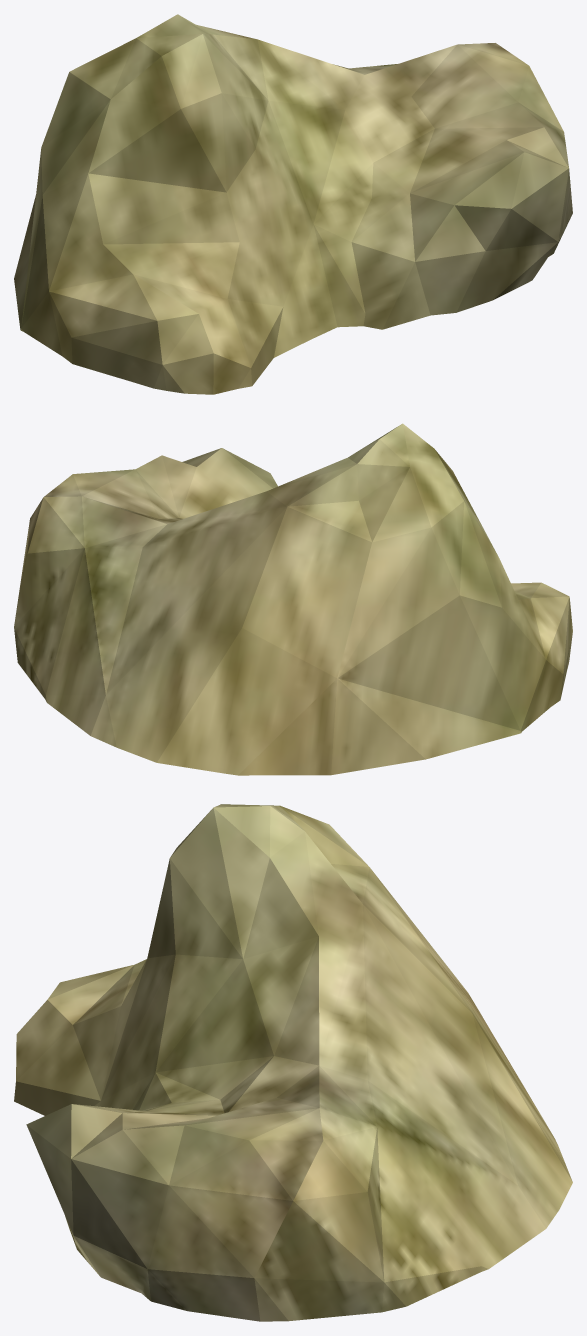
The picture shows the model from 3 angles, top to bottom: view 1: azimuth 30°, elevation 25°; view 2: azimuth 150°, elevation 25°; view 3: azimuth 270°, elevation 25°; orthographic projection. The views are drawn at different scales.
Bounding box in the file's own units: 1.08 × 0.5492 × 0.8778.
Materials: 1 (1 with a texture image).
